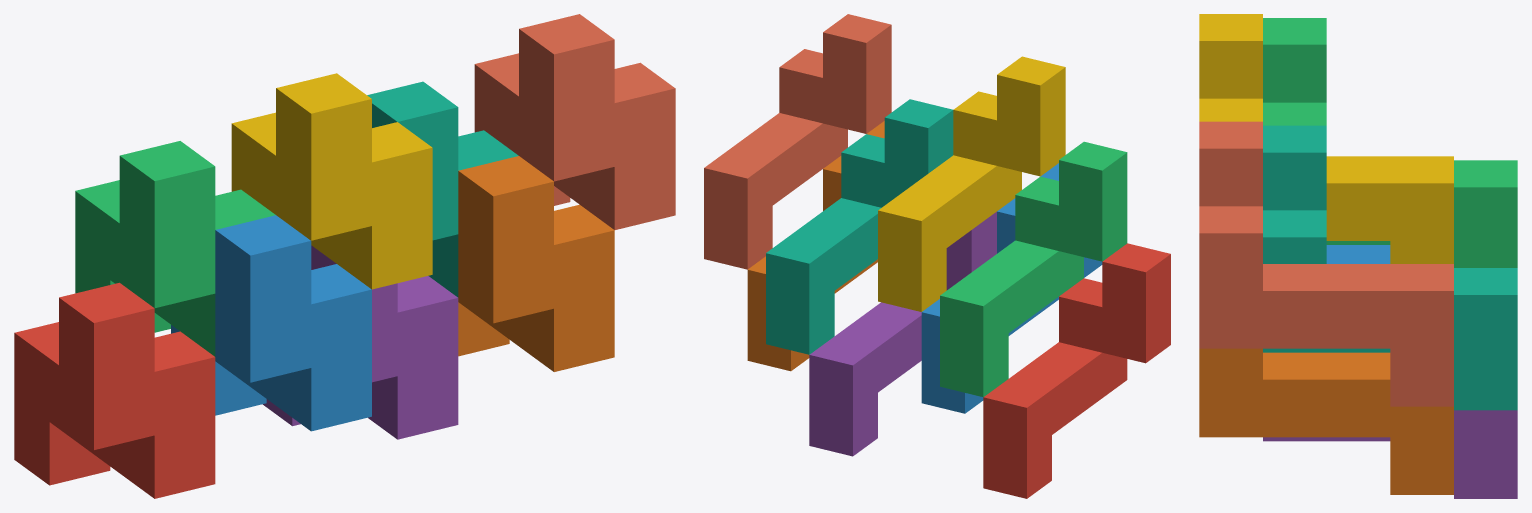
Rendered from tiling.obj.
3 views of the same model, side by side, from view 1: azimuth 30°, elevation 25°; view 2: azimuth 150°, elevation 25°; view 3: azimuth 270°, elevation 25° (orthographic). The views are drawn at different scales.
Visible parts, largest first — view 1: copy_1_domain_1, copy_1_domain_8, copy_1_domain_4, copy_1_domain_2, copy_1_domain_6, copy_1_domain_3, copy_1_domain_5, copy_1_domain_7; view 2: copy_1_domain_3, copy_1_domain_1, copy_1_domain_8, copy_1_domain_4, copy_1_domain_7, copy_1_domain_5, copy_1_domain_2, copy_1_domain_6; view 3: copy_1_domain_8, copy_1_domain_6, copy_1_domain_4, copy_1_domain_7, copy_1_domain_3, copy_1_domain_5, copy_1_domain_2.
Part boxes in pixels (x1=…): copy_1_domain_1: x1=14, y1=282, x2=215, y2=498; copy_1_domain_8: x1=474, y1=14, x2=675, y2=229; copy_1_domain_4: x1=231, y1=73, x2=432, y2=289; copy_1_domain_2: x1=171, y1=215, x2=371, y2=431; copy_1_domain_6: x1=458, y1=156, x2=614, y2=371; copy_1_domain_3: x1=75, y1=141, x2=275, y2=356; copy_1_domain_5: x1=263, y1=245, x2=458, y2=439; copy_1_domain_7: x1=367, y1=81, x2=518, y2=297; copy_1_domain_3: x1=940, y1=141, x2=1127, y2=397; copy_1_domain_1: x1=983, y1=243, x2=1170, y2=498; copy_1_domain_8: x1=704, y1=14, x2=891, y2=269; copy_1_domain_4: x1=878, y1=56, x2=1065, y2=311; copy_1_domain_7: x1=766, y1=99, x2=953, y2=354; copy_1_domain_5: x1=809, y1=211, x2=996, y2=456; copy_1_domain_2: x1=921, y1=163, x2=1102, y2=413; copy_1_domain_6: x1=747, y1=121, x2=884, y2=371; copy_1_domain_8: x1=1199, y1=121, x2=1453, y2=406; copy_1_domain_6: x1=1199, y1=348, x2=1453, y2=494; copy_1_domain_4: x1=1199, y1=14, x2=1453, y2=263; copy_1_domain_7: x1=1263, y1=125, x2=1517, y2=410; copy_1_domain_3: x1=1263, y1=18, x2=1517, y2=267; copy_1_domain_5: x1=1263, y1=410, x2=1517, y2=498; copy_1_domain_2: x1=1326, y1=245, x2=1390, y2=263.
Bounding box in the file's own units: 9 × 7 × 5.
